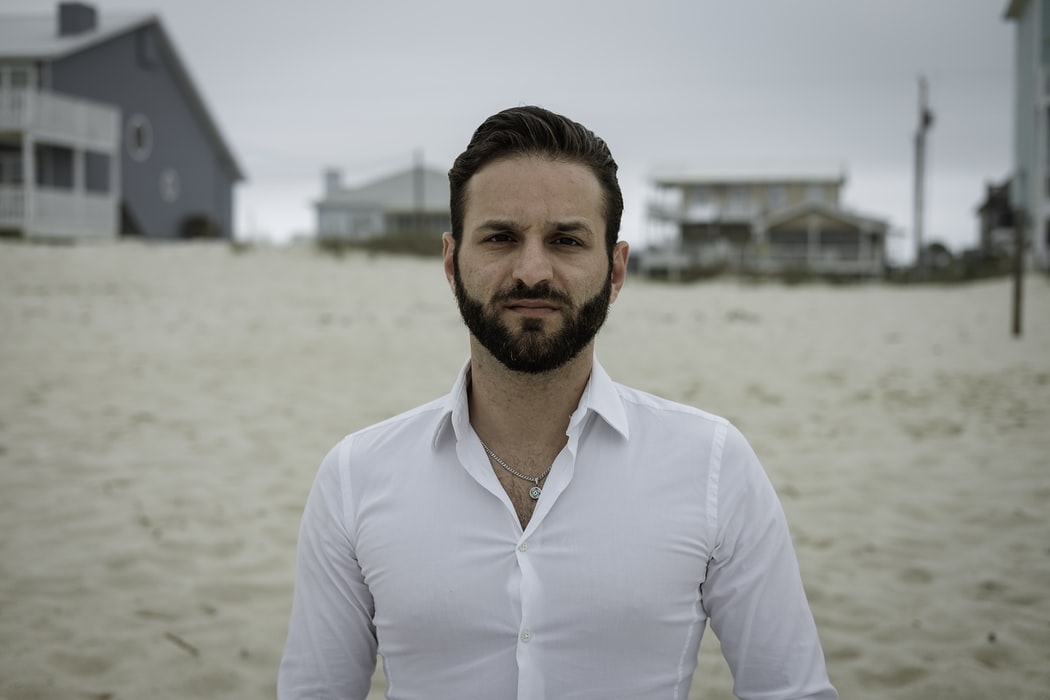beard: (452, 275, 618, 377)
